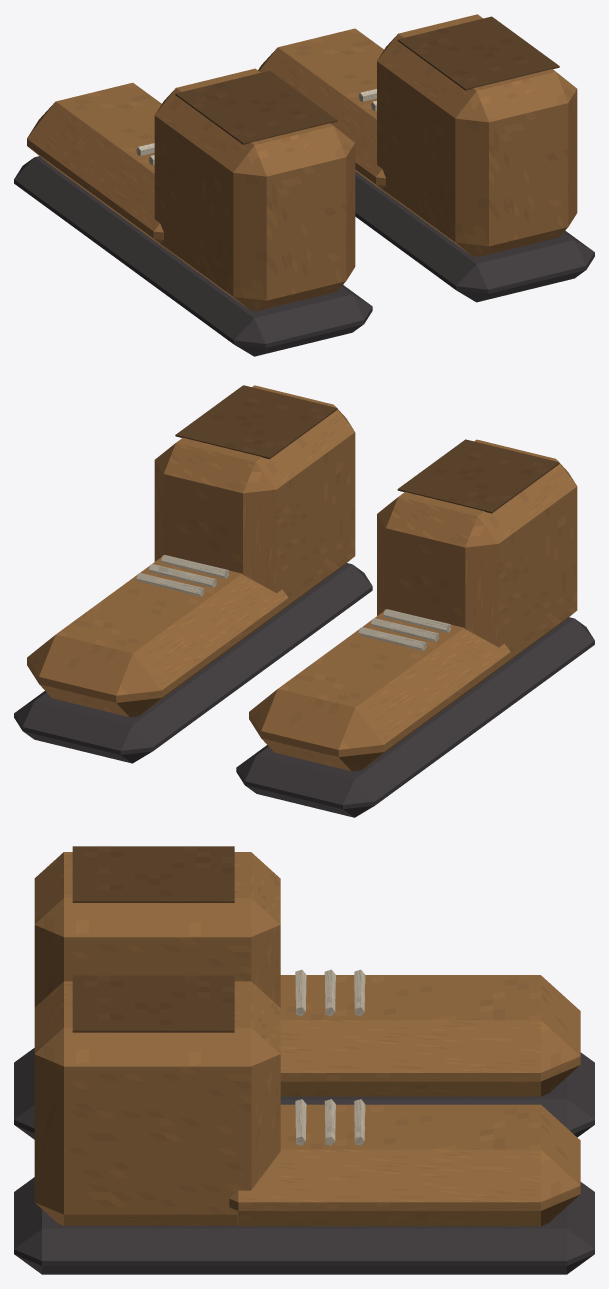
The model's file is boots_hiking.glb.
3 views of the same model, one above another, from view 1: azimuth 30°, elevation 25°; view 2: azimuth 150°, elevation 25°; view 3: azimuth 270°, elevation 25° (orthographic). The views are drawn at different scales.
Parts seen in each view (by area): view 1: block_shaft (×2), block_shaped sole (×2), block_vamp and toe (×2), block_opening (×2); view 2: block_shaft (×2), block_vamp and toe (×2), block_shaped sole (×2), block_opening (×2), block_lace (×6); view 3: block_shaft (×2), block_vamp and toe (×2), block_shaped sole (×2), block_opening (×2).
Part boxes in pixels (<box>): block_shaft (×2): <box>154,14,577,310</box>; block_shaped sole (×2): <box>14,156,594,356</box>; block_vamp and toe (×2): <box>27,28,398,256</box>; block_opening (×2): <box>175,16,559,144</box>; block_shaft (×2): <box>154,385,577,670</box>; block_vamp and toe (×2): <box>27,555,510,771</box>; block_shaped sole (×2): <box>14,563,594,817</box>; block_opening (×2): <box>175,385,559,513</box>; block_lace (×6): <box>136,555,450,650</box>; block_shaft (×2): <box>34,852,280,1225</box>; block_vamp and toe (×2): <box>229,975,580,1226</box>; block_shaped sole (×2): <box>14,1048,594,1274</box>; block_opening (×2): <box>72,846,234,1032</box>.
Bounding box in the file's own units: 0.2137 × 0.115 × 0.2495.
Materials: 1 (1 with a texture image).
